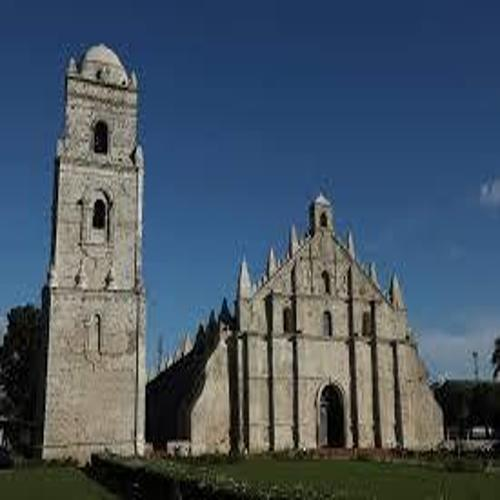Paoay Church: (38, 38, 456, 463)
